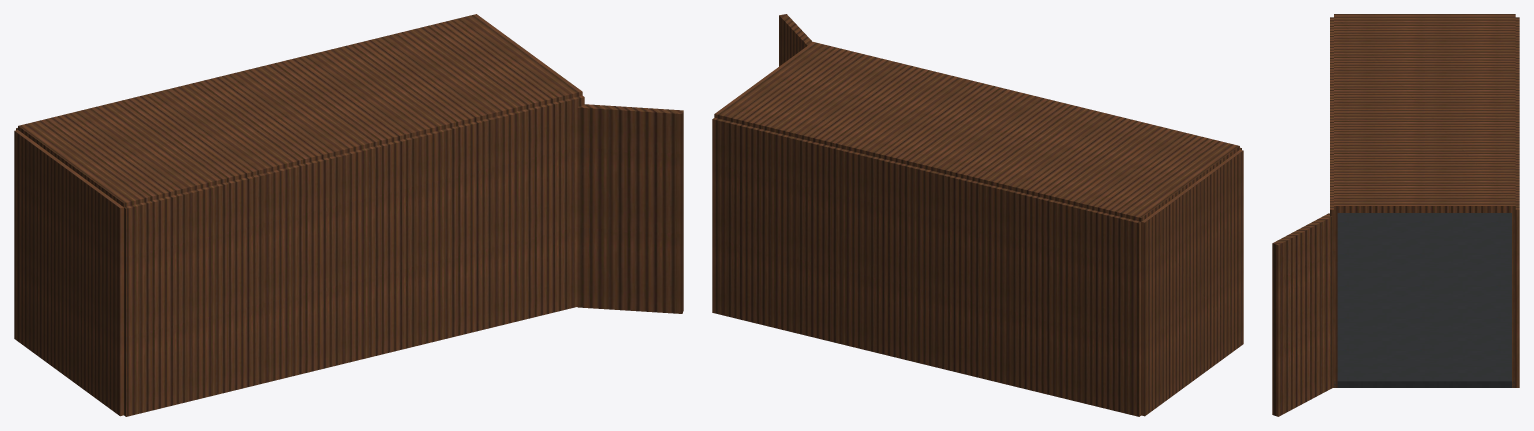
File: open_container_01.glb
The picture shows the model from 3 angles, left to right: view 1: azimuth 30°, elevation 25°; view 2: azimuth 150°, elevation 25°; view 3: azimuth 270°, elevation 25°; orthographic projection. The views are drawn at different scales.
Parts seen in each view (by area): view 1: open_container_01; view 2: open_container_01; view 3: open_container_01.
Boxes of the visible parts, left/top/right/bottom form: open_container_01: left=14, top=14, right=683, bottom=416; open_container_01: left=712, top=14, right=1243, bottom=416; open_container_01: left=1272, top=14, right=1519, bottom=416.
Size of the model in its own units: 6.95 by 2.65 by 3.26.
Materials: 2 (2 with a texture image).
